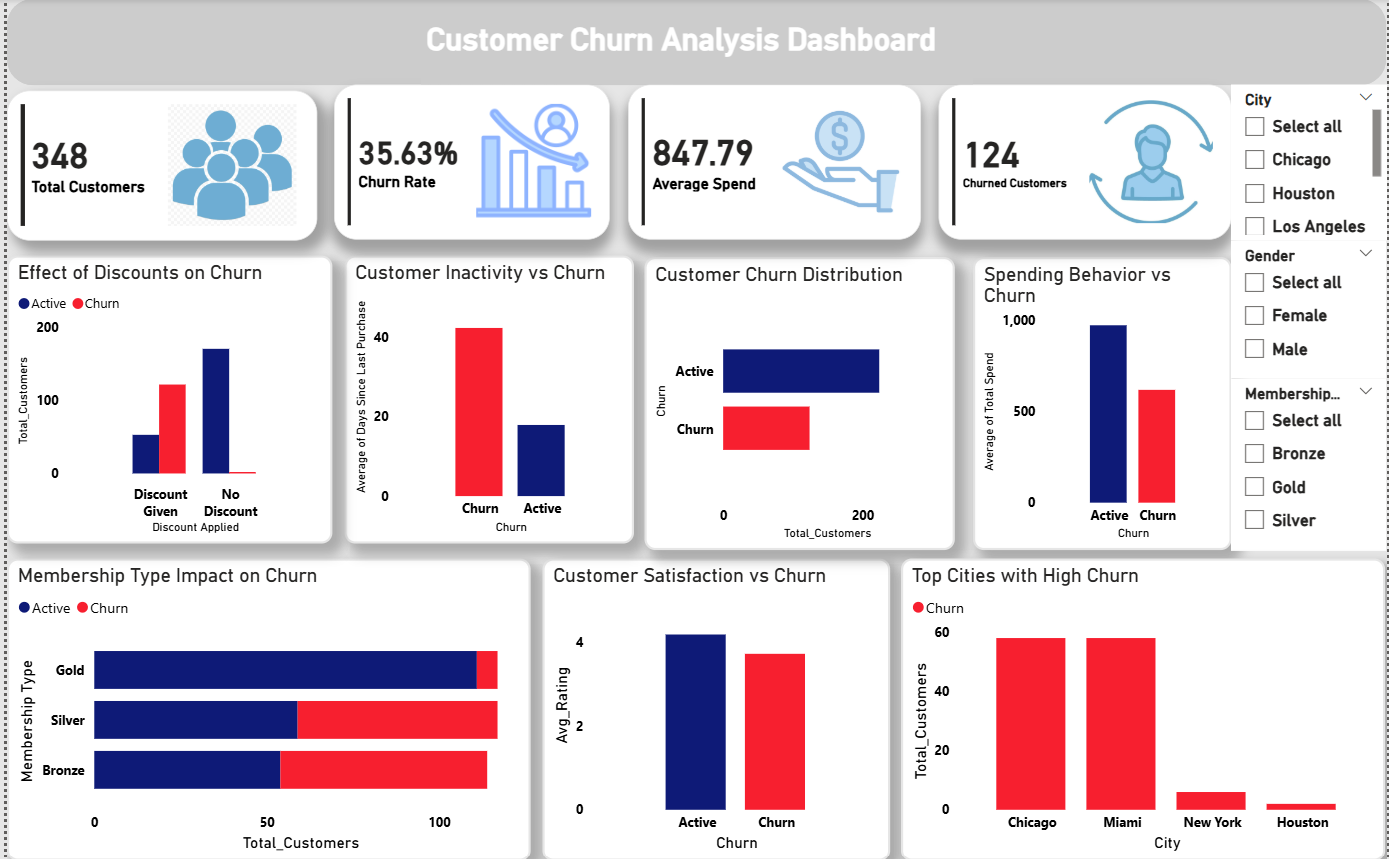

The dashboard page shown, as its layout file describes it:
{"tool":"powerbi","page":{"name":"Page 1","canvas":[1280,800],"ordinal":0},"visuals":[{"type":"shape","box":[0,0,1280,80],"z":0},{"type":"barChart","title":"Membership Type Impact on Churn","fields":{"Category":["cleaned_data.Membership Type"],"Series":["cleaned_data.Churn"],"Y":["Count(cleaned_data.Customer ID)"]},"box":[0,519.3,485.9,281.2],"z":1000},{"type":"clusteredColumnChart","title":"Spending Behavior vs Churn","fields":{"Category":["cleaned_data.Churn"],"Y":["Avg(cleaned_data.Total Spend)"]},"box":[896,240,240,272],"z":2000},{"type":"clusteredColumnChart","title":"Customer Satisfaction vs Churn","fields":{"Y":["Avg(cleaned_data.Average Rating)"],"Category":["cleaned_data.Churn"]},"box":[497,519.3,323,281.2],"z":3000},{"type":"clusteredColumnChart","title":"Customer Inactivity vs Churn","fields":{"Y":["Avg(cleaned_data.Days Since Last Purchase)"],"Category":["cleaned_data.Churn"]},"box":[313.2,238.1,268.7,267.3],"z":4000},{"type":"clusteredColumnChart","title":"Effect of Discounts on Churn","fields":{"Series":["cleaned_data.Churn"],"Category":["cleaned_data.Discount Applied"],"Y":["Count(cleaned_data.Customer ID)"]},"box":[0,238.1,302.1,267.3],"z":5000},{"type":"barChart","title":"Customer Churn Distribution","fields":{"Category":["cleaned_data.Churn"],"Y":["Count(cleaned_data.Customer ID)"]},"box":[592,240,288,272],"z":6000},{"type":"cardVisual","fields":{"Data":["Count(cleaned_data.Customer ID)"]},"box":[0,84.9,288.2,139.2],"z":7000},{"type":"cardVisual","fields":{"Data":["Avg(cleaned_data.Total Spend)"]},"box":[576,80,272,144],"z":8000},{"type":"cardVisual","fields":{"Data":["cleaned_data.Churned_Customers"]},"box":[864,80,272,144],"z":9000},{"type":"cardVisual","fields":{"Data":["cleaned_data.Churn_Rate"]},"box":[304,80,256,144],"z":10000},{"type":"slicer","fields":{"Values":["cleaned_data.City"]},"box":[1136,80,144,144],"z":11000},{"type":"slicer","fields":{"Values":["cleaned_data.Gender"]},"box":[1136,224,144,128],"z":12000},{"type":"slicer","fields":{"Values":["cleaned_data.Membership Type"]},"box":[1136,352,144,160],"z":13000},{"type":"clusteredColumnChart","title":"Top Cities with High Churn","fields":{"Category":["cleaned_data.City"],"Y":["Count(cleaned_data.Customer ID)"],"Series":["cleaned_data.Churn"]},"box":[829.7,519.3,449.7,281.2],"z":14000},{"type":"textbox","box":[384,16,512,64],"z":15000}]}

Visuals, with their boxes in screenshot pixels (x1, y1, x2, y2), scaled from the page's 1280x800 canvas onto the 1389x859 screenshot:
shape: crop(0, 0, 1388, 86)
"Membership Type Impact on Churn" barChart: crop(0, 558, 527, 858)
"Spending Behavior vs Churn" clusteredColumnChart: crop(972, 258, 1233, 550)
"Customer Satisfaction vs Churn" clusteredColumnChart: crop(539, 558, 890, 858)
"Customer Inactivity vs Churn" clusteredColumnChart: crop(340, 256, 631, 543)
"Effect of Discounts on Churn" clusteredColumnChart: crop(0, 256, 328, 543)
"Customer Churn Distribution" barChart: crop(642, 258, 955, 550)
cardVisual - Count(cleaned_data.Customer ID): crop(0, 91, 313, 241)
cardVisual - Avg(cleaned_data.Total Spend): crop(625, 86, 920, 241)
cardVisual - cleaned_data.Churned_Customers: crop(938, 86, 1233, 241)
cardVisual - cleaned_data.Churn_Rate: crop(330, 86, 608, 241)
slicer - cleaned_data.City: crop(1233, 86, 1388, 241)
slicer - cleaned_data.Gender: crop(1233, 241, 1388, 378)
slicer - cleaned_data.Membership Type: crop(1233, 378, 1388, 550)
"Top Cities with High Churn" clusteredColumnChart: crop(900, 558, 1388, 858)
textbox: crop(417, 17, 972, 86)
